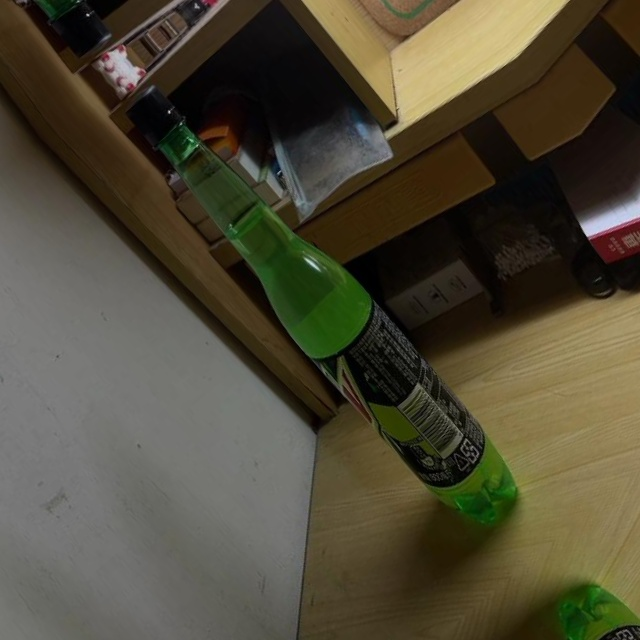Mountain-Dew: (109, 62, 536, 547)
